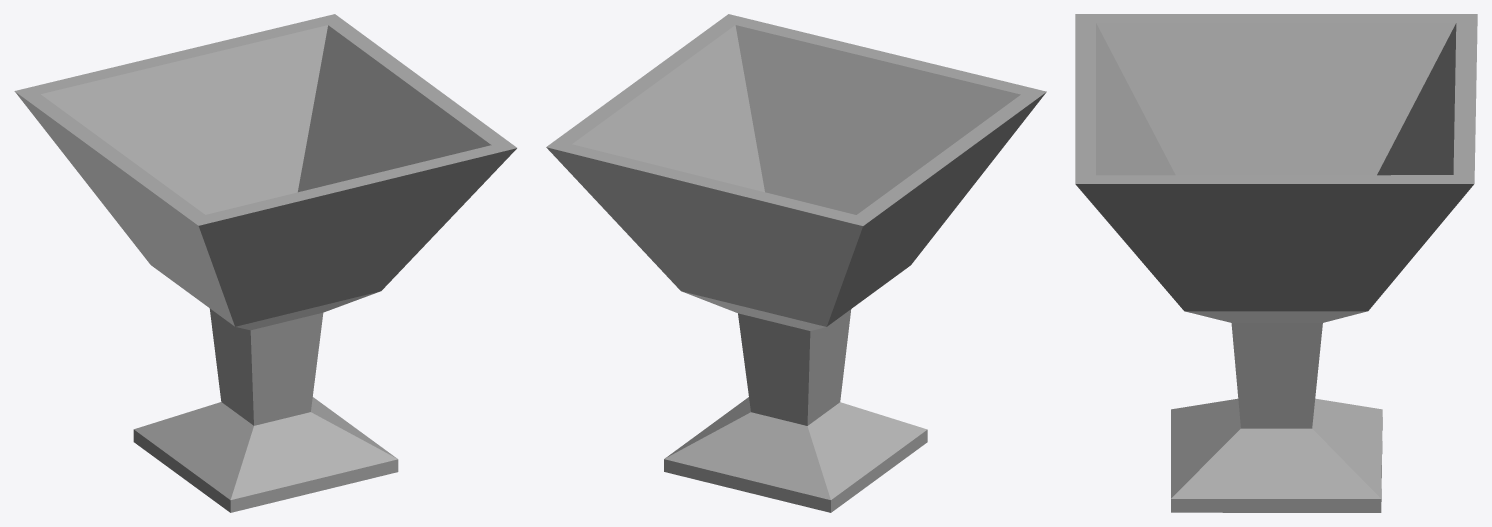
Rendered from eggBase.fbx.
3 renders of one model, left to right at view 1: azimuth 30°, elevation 25°; view 2: azimuth 150°, elevation 25°; view 3: azimuth 270°, elevation 25°, orthographic. The views are drawn at different scales.
Parts seen in each view (by area): view 1: eggBase; view 2: eggBase; view 3: eggBase.
Part boxes in pixels (<box>): eggBase: <box>14,14,516,512</box>; eggBase: <box>546,14,1046,512</box>; eggBase: <box>1075,14,1477,512</box>.
Bounding box in the file's own units: 7.96 × 8.05 × 7.95.
Materials: 1 (1 with a texture image).
